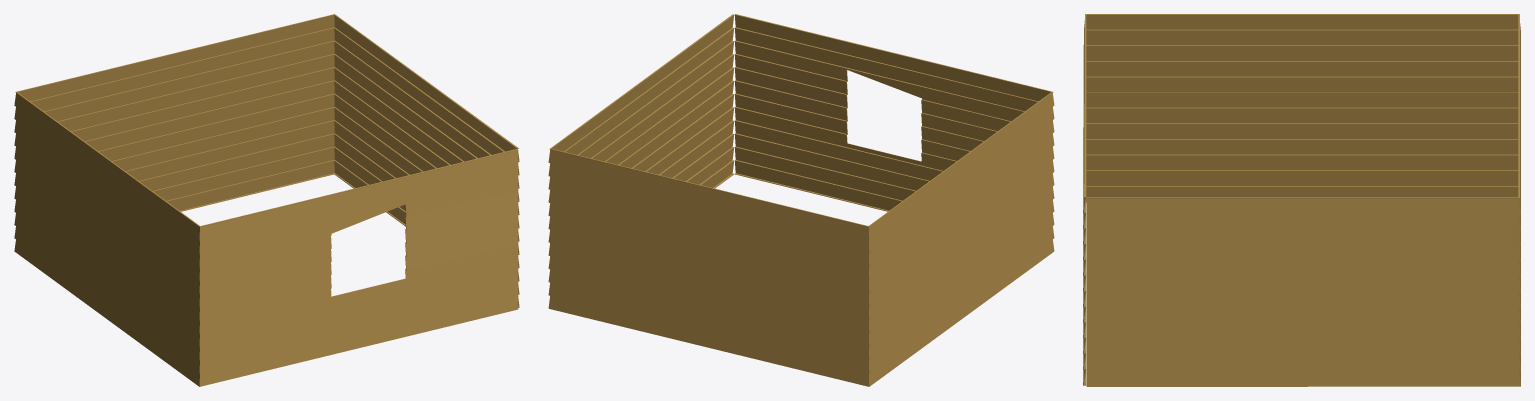
The model's file is Room.fbx.
3 renders of one model, left to right at view 1: azimuth 30°, elevation 25°; view 2: azimuth 150°, elevation 25°; view 3: azimuth 270°, elevation 25°, orthographic. The views are drawn at different scales.
Parts seen in each view (by area): view 1: Wall_cover; view 2: Wall_cover; view 3: Wall_cover.
Boxes of the visible parts, x1,y1,x2,y2 form: Wall_cover: [14, 14, 519, 386]; Wall_cover: [548, 14, 1054, 386]; Wall_cover: [1083, 14, 1520, 386].
Bounding box in the file's own units: 507 × 241 × 507.
